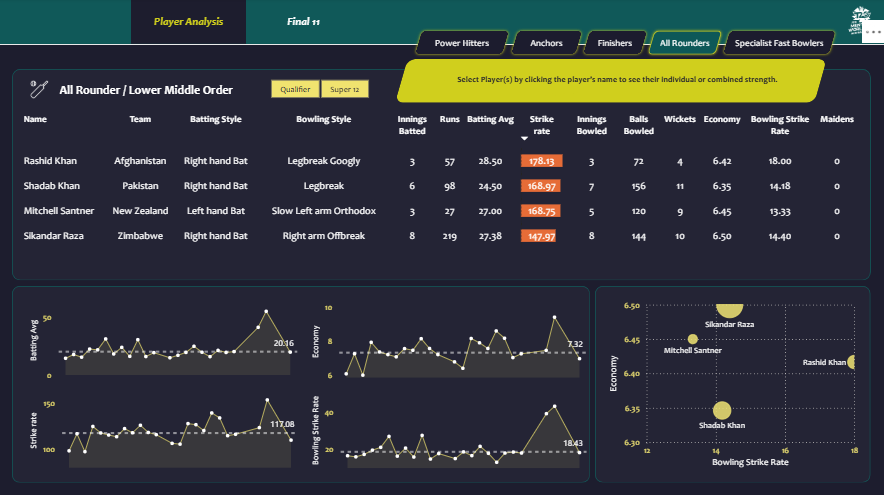

The page's visual inventory and layout, read from the dashboard file:
{"tool":"powerbi","page":{"name":"New All Rounders / Lower Middle Order","canvas":[1280,720],"ordinal":3},"visuals":[{"type":"shape","box":[0,66,1280,654],"z":0},{"type":"card","fields":{"Values":["Key_Measures.Strike rate"]},"box":[867,89,93,60],"z":0,"group":"g2"},{"type":"shape","box":[83.7,116.3,260,31.2],"z":0,"group":"g1"},{"type":"card","fields":{"Values":["Key_Measures.Bat Avg"]},"box":[768,89,92,60],"z":1000,"group":"g2"},{"type":"image","box":[37.5,113.8,44,36],"z":1000,"group":"g1"},{"type":"shape","box":[20,414.4,832.2,283.3],"z":1000},{"type":"actionButton","box":[734,42.6,111,42],"z":2000},{"type":"card","fields":{"Values":["Key_Measures.Bowling Strike Rate"]},"box":[1073,89,100,60],"z":2000,"group":"g2"},{"type":"actionButton","box":[596,42.6,144,42],"z":3000},{"type":"card","fields":{"Values":["Key_Measures.Economy"]},"box":[966,89,101,60],"z":3000,"group":"g2"},{"type":"actionButton","box":[838,42.6,101,42],"z":4000},{"type":"actionButton","box":[932,42.6,115,42],"z":5000},{"type":"actionButton","box":[1039,42.6,171,42],"z":6000},{"type":"image","box":[1220,3,48,59],"z":7000},{"type":"shape","box":[20,102.2,1236.7,304.4],"z":9000},{"type":"group","id":"g1","title":"Group 2","box":[37.5,113.8,306.2,35],"z":10000},{"type":"slicer","fields":{"Values":["dim_match_summary.stage"]},"box":[366.7,111.1,191.1,38.9],"z":11000},{"type":"tableEx","fields":{"Values":["dim_player.name","Min(dim_player.team)","Min(dim_player.Batting Style)","Min(dim_player.Bowling Style)","Key_Measures.Total Innings Batted","Key_Measures.Total Runs","Key_Measures.Bat Avg","Key_Measures.Strike rate","Key_Measures.Total Innings Bowled","Key_Measures.Balls Bowled","Key_Measures.wickets","Key_Measures.Economy"]},"box":[26,151,1231,255],"z":12000},{"type":"shape","box":[572,88,622,63],"z":13000},{"type":"shape","box":[591,103,173,34],"z":14000},{"type":"group","id":"g2","title":"Combined Perfoamce Metrices","box":[768,89,405,60],"z":15000},{"type":"scatterChart","fields":{"Category":["dim_player.name"],"X":["Key_Measures.Bowling Strike Rate"],"Y":["Key_Measures.Economy"],"Size":["Key_Measures.Total Runs"]},"box":[874.4,427,370,254],"z":16000},{"type":"actionButton","title":"Button Player Ana selected","box":[191,0,166,66],"z":17000},{"type":"actionButton","title":"Button Player Ana selected","box":[357,0,166,66],"z":18000},{"type":"shape","box":[612,100,560,36],"z":19000},{"type":"shape","box":[859.5,414.3,396.7,283.1],"z":20000},{"type":"areaChart","fields":{"Category":["dim_match_summary.Match_Date.Variation.Date Hierarchy.Day"],"Y":["Key_Measures.Economy"]},"box":[446,430,406,126],"z":21000},{"type":"areaChart","fields":{"Category":["dim_match_summary.Match_Date.Variation.Date Hierarchy.Day"],"Y":["Key_Measures.Bowling Strike Rate"]},"box":[446,556,406,126],"z":22000},{"type":"areaChart","fields":{"Category":["dim_match_summary.Match_Date.Variation.Date Hierarchy.Day"],"Y":["Key_Measures.Bat Avg"]},"box":[40,428.9,395.6,126.7],"z":23000},{"type":"areaChart","fields":{"Category":["dim_match_summary.Match_Date.Variation.Date Hierarchy.Day"],"Y":["Key_Measures.Strike rate"]},"box":[40,555.6,396.7,125.6],"z":24000}]}

Visuals, with their boxes in screenshot pixels (x1, y1, x2, y2), scaled from the page's 1280x720 canvas onto the 884x495 screenshot:
shape: rect(0, 45, 883, 494)
card - Key_Measures.Strike rate: rect(599, 61, 663, 102)
shape: rect(58, 80, 237, 101)
card - Key_Measures.Bat Avg: rect(530, 61, 594, 102)
image: rect(26, 78, 56, 103)
shape: rect(14, 285, 589, 480)
actionButton: rect(507, 29, 584, 58)
card - Key_Measures.Bowling Strike Rate: rect(741, 61, 810, 102)
actionButton: rect(412, 29, 511, 58)
card - Key_Measures.Economy: rect(667, 61, 737, 102)
actionButton: rect(579, 29, 648, 58)
actionButton: rect(644, 29, 723, 58)
actionButton: rect(718, 29, 836, 58)
image: rect(843, 2, 876, 43)
shape: rect(14, 70, 868, 280)
"Group 2" group: rect(26, 78, 237, 102)
slicer - dim_match_summary.stage: rect(253, 76, 385, 103)
tableEx - dim_player.name x Min(dim_player.team): rect(18, 104, 868, 279)
shape: rect(395, 60, 825, 104)
shape: rect(408, 71, 528, 94)
"Combined Perfoamce Metrices" group: rect(530, 61, 810, 102)
scatterChart - dim_player.name x Key_Measures.Bowling Strike Rate: rect(604, 294, 859, 468)
"Button Player Ana selected" actionButton: rect(132, 0, 247, 45)
"Button Player Ana selected" actionButton: rect(247, 0, 361, 45)
shape: rect(423, 69, 809, 94)
shape: rect(594, 285, 868, 479)
areaChart - dim_match_summary.Match_Date.Variation.Date Hierarchy.Day x Key_Measures.Economy: rect(308, 296, 588, 382)
areaChart - dim_match_summary.Match_Date.Variation.Date Hierarchy.Day x Key_Measures.Bowling Strike Rate: rect(308, 382, 588, 469)
areaChart - dim_match_summary.Match_Date.Variation.Date Hierarchy.Day x Key_Measures.Bat Avg: rect(28, 295, 301, 382)
areaChart - dim_match_summary.Match_Date.Variation.Date Hierarchy.Day x Key_Measures.Strike rate: rect(28, 382, 302, 468)
